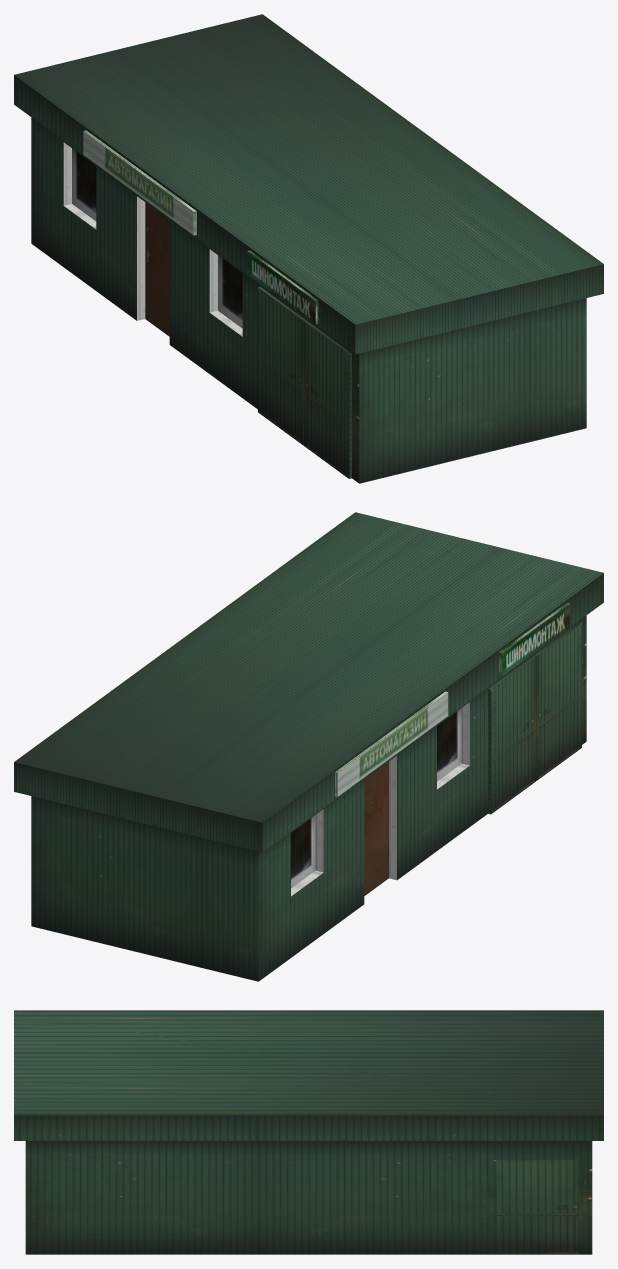
Rendered from ruspoltract_servis2.FBX.
3 views of the same model, one above another, from view 1: azimuth 30°, elevation 25°; view 2: azimuth 150°, elevation 25°; view 3: azimuth 270°, elevation 25° (orthographic). The views are drawn at different scales.
Parts seen in each view (by area): view 1: ruspoltract_servis2; view 2: ruspoltract_servis2; view 3: ruspoltract_servis2.
Boxes of the visible parts, bbox=[...] form: ruspoltract_servis2: bbox=[14, 14, 603, 483]; ruspoltract_servis2: bbox=[14, 512, 603, 981]; ruspoltract_servis2: bbox=[14, 1010, 603, 1254].
Size of the model in its own units: 443 by 1041 by 280.
